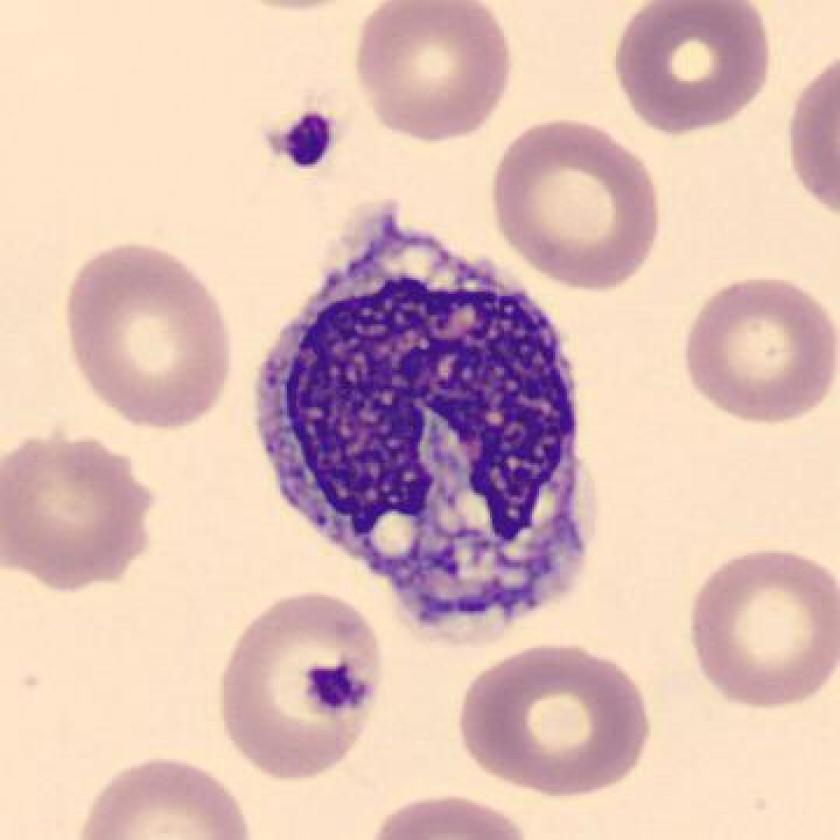monocyte: (234, 189, 622, 659)
